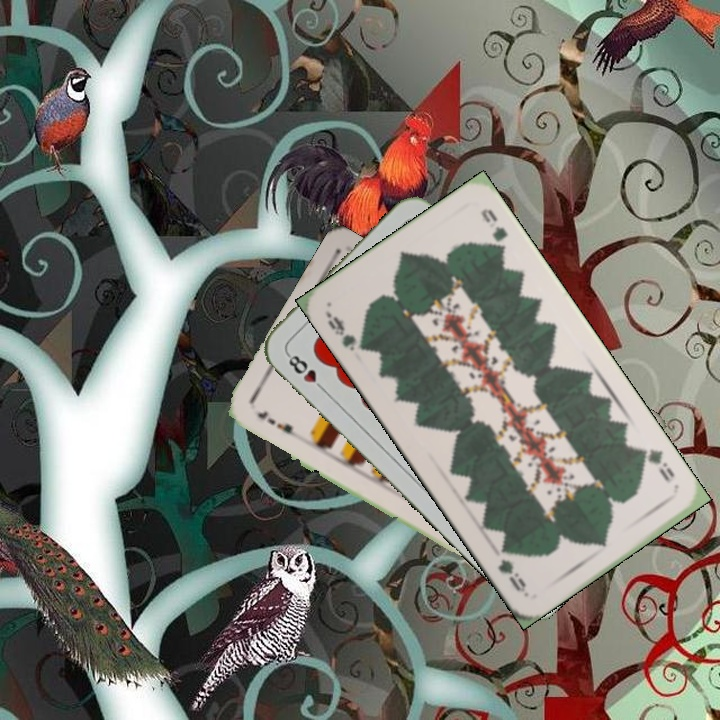E7: (252, 406, 303, 443)
G9: (635, 444, 677, 484), (323, 312, 359, 354)
H8: (283, 349, 329, 395)
